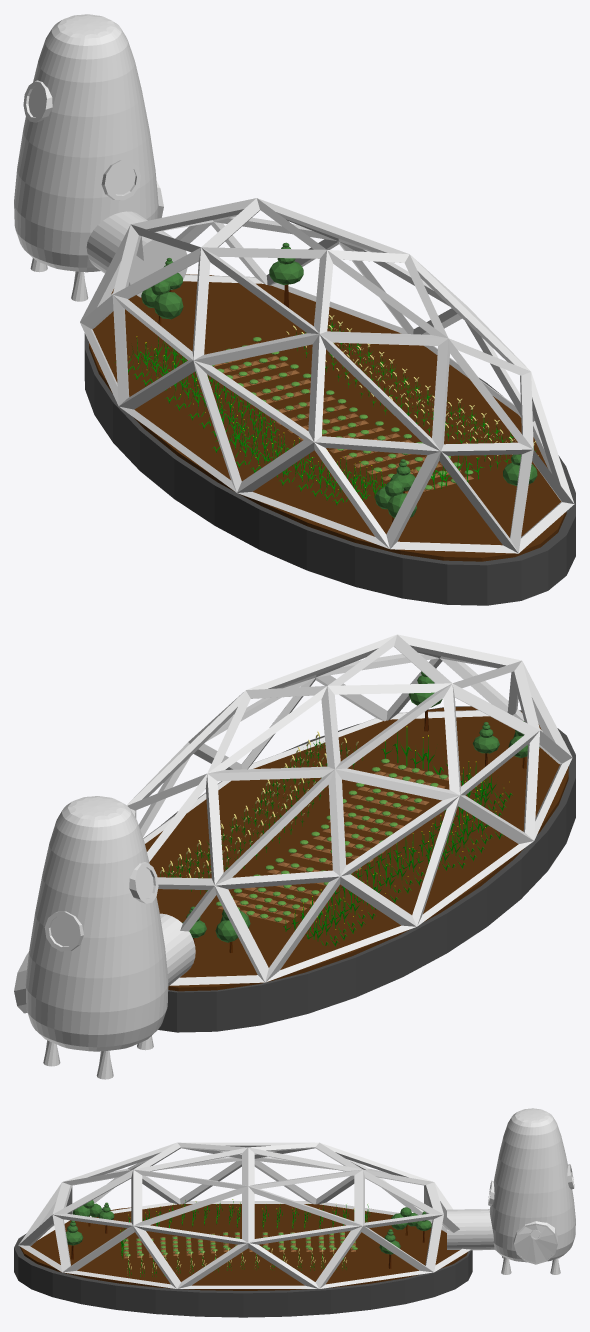
Rendered from MarsPlantFarm_3.fbx.
The picture shows the model from 3 angles, top to bottom: view 1: azimuth 30°, elevation 25°; view 2: azimuth 150°, elevation 25°; view 3: azimuth 270°, elevation 25°; orthographic projection. The views are drawn at different scales.
Parts seen in each view (by area): view 1: Cylinder.035; view 2: Cylinder.035; view 3: Cylinder.035.
Part boxes in pixels (x1=…): Cylinder.035: x1=14, y1=14, x2=575, y2=605; Cylinder.035: x1=14, y1=634, x2=575, y2=1079; Cylinder.035: x1=14, y1=1108, x2=575, y2=1317.
Bounding box in the file's own units: 634 × 506 × 1646.
